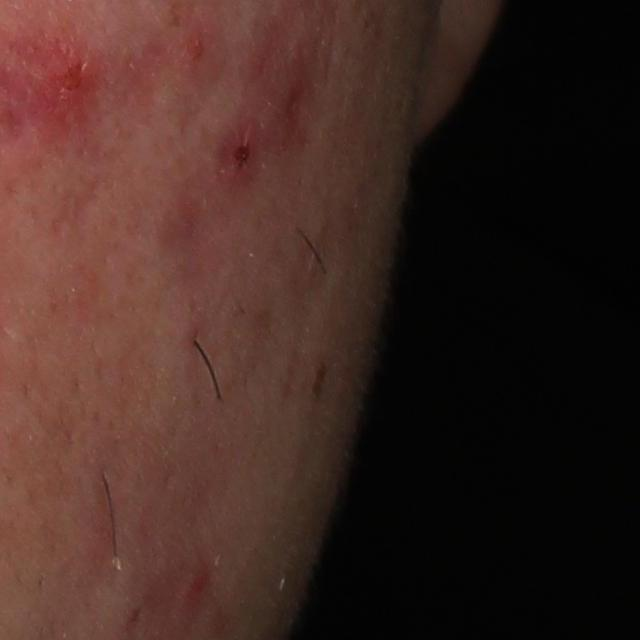nevus: (312, 359, 330, 400)
papule: (26, 43, 108, 140), (214, 118, 265, 188), (182, 26, 230, 81), (183, 566, 215, 610)
